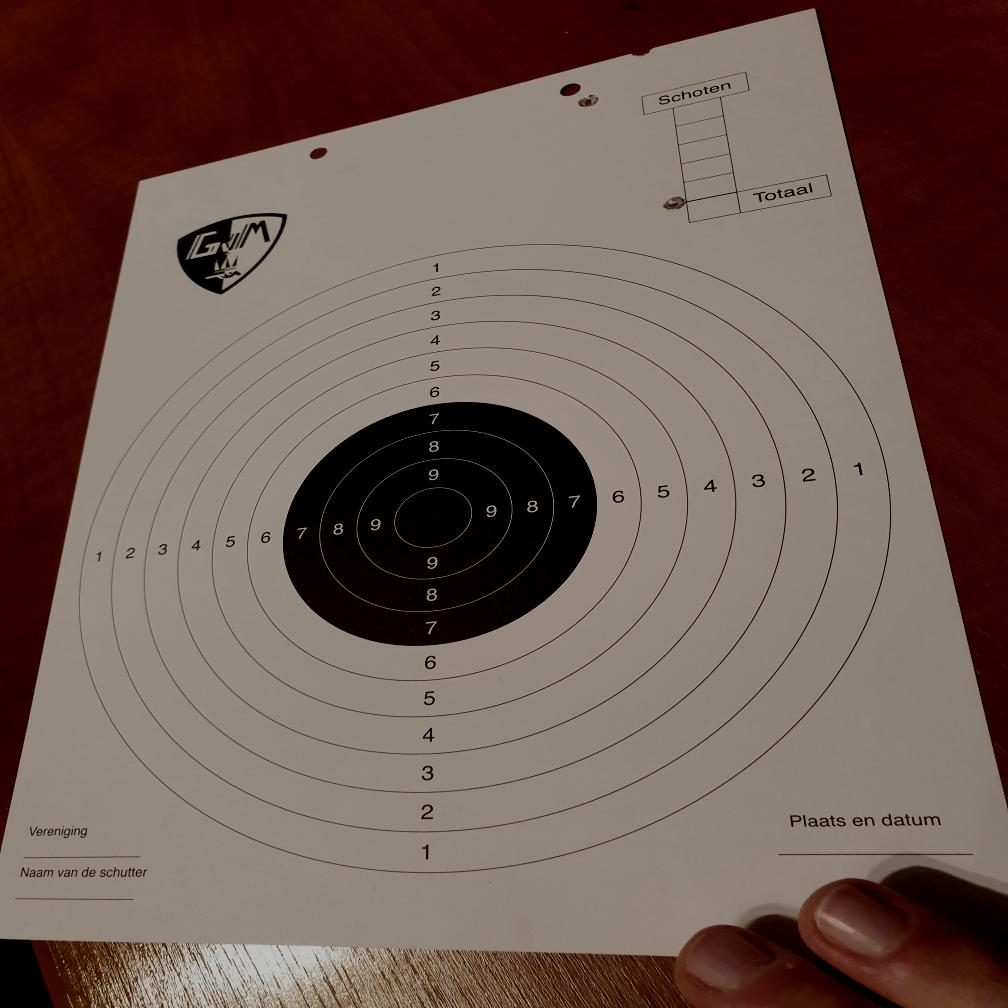0: (661, 193, 685, 212), (576, 94, 600, 107)
Target: (77, 241, 875, 874)
black_contour: (283, 404, 598, 646)
